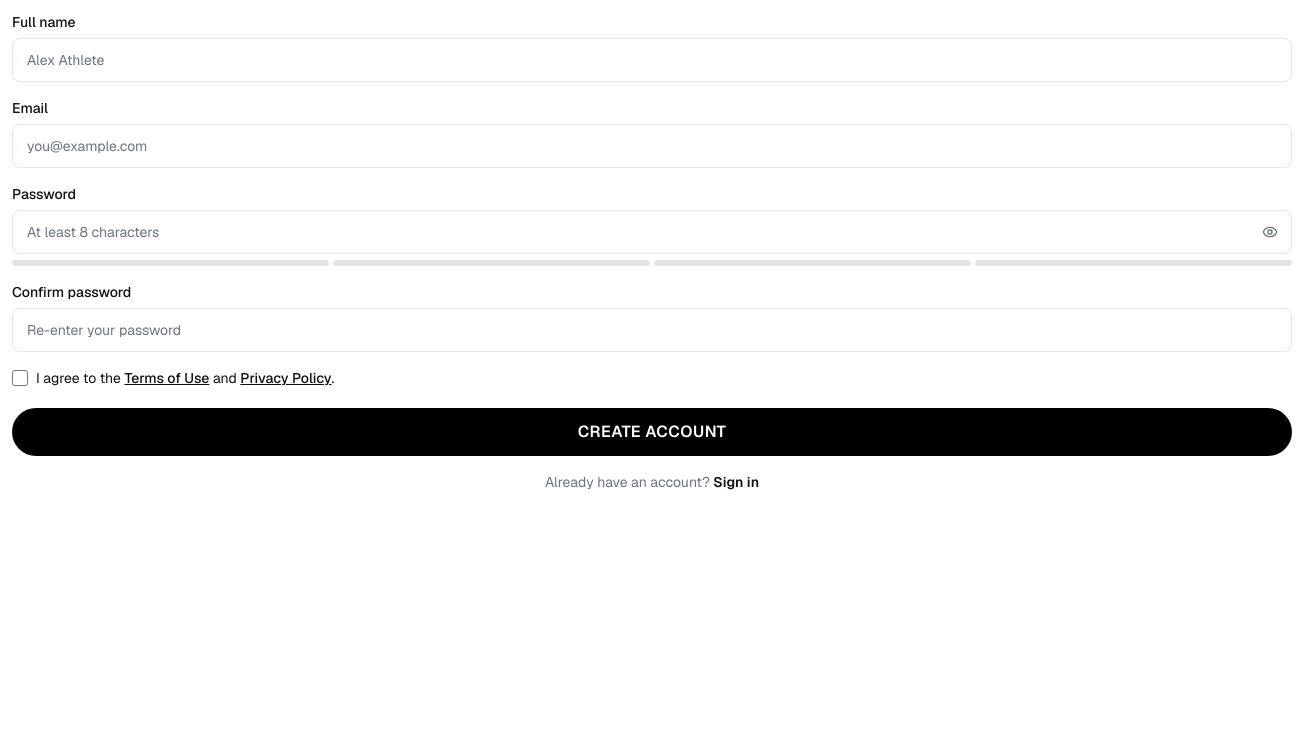
Test case: SignUpForm › blocks submission when passwords do not match
In the field labelled "Full name": {"x": 652, "y": 60} [12,38,1292,82], type "Alex"
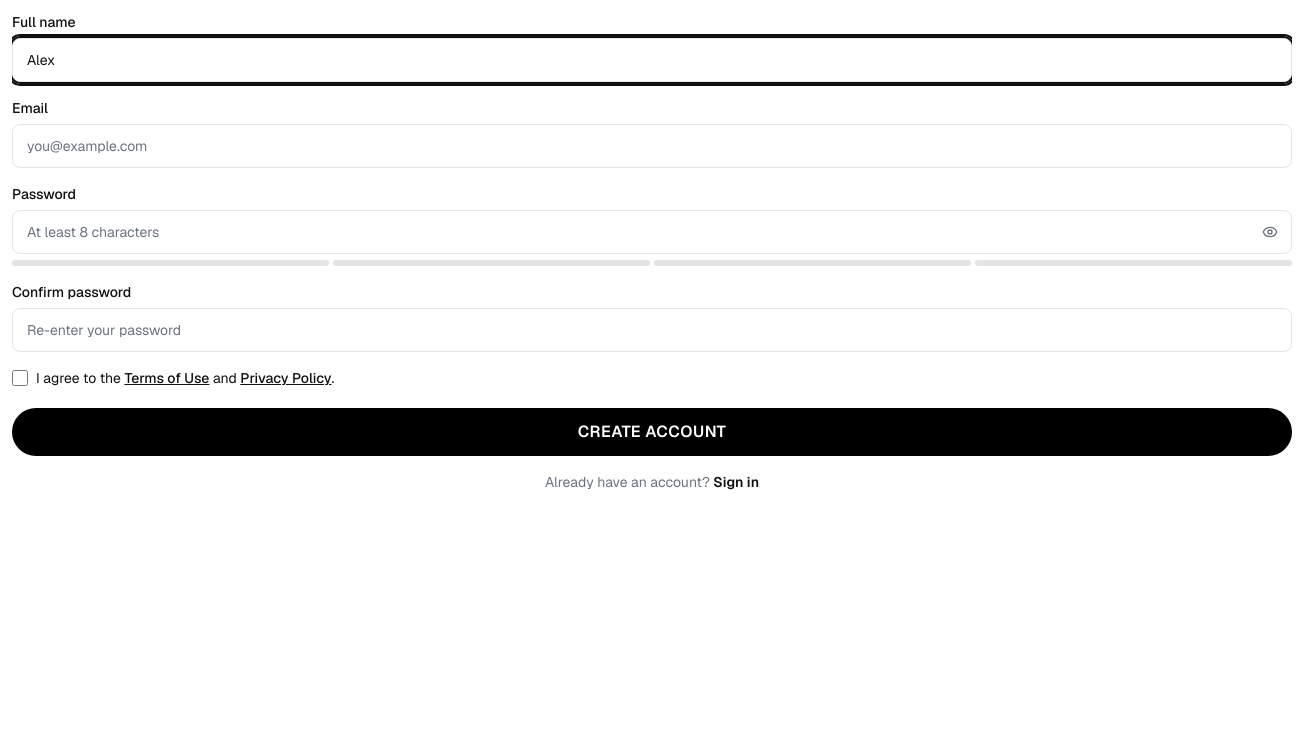
In the field labelled "Email": {"x": 652, "y": 146} [12,124,1292,168], type "alex@ua.com"
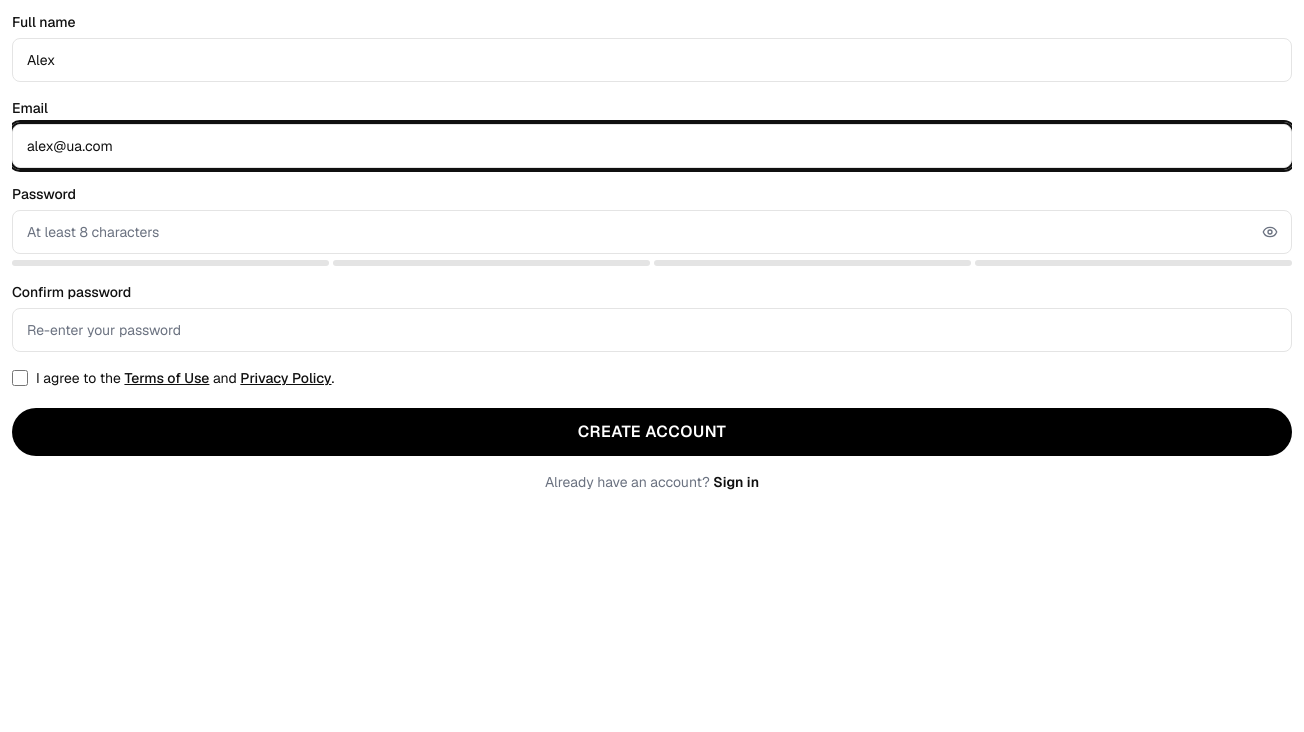
In the password field labelled "Password": {"x": 652, "y": 232} [12,210,1292,254], type "Str0ng!Pass"
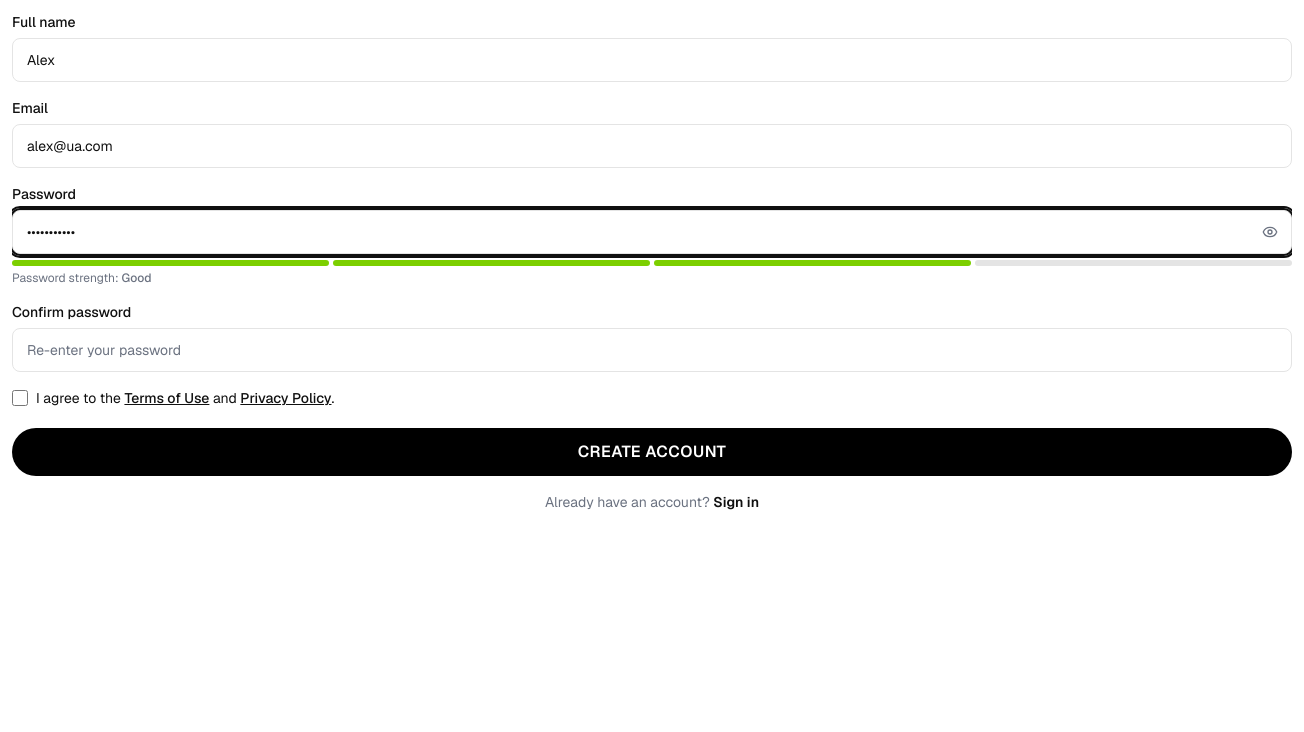
In the password field labelled "Confirm password": {"x": 652, "y": 350} [12,328,1292,372], type "Different1!"
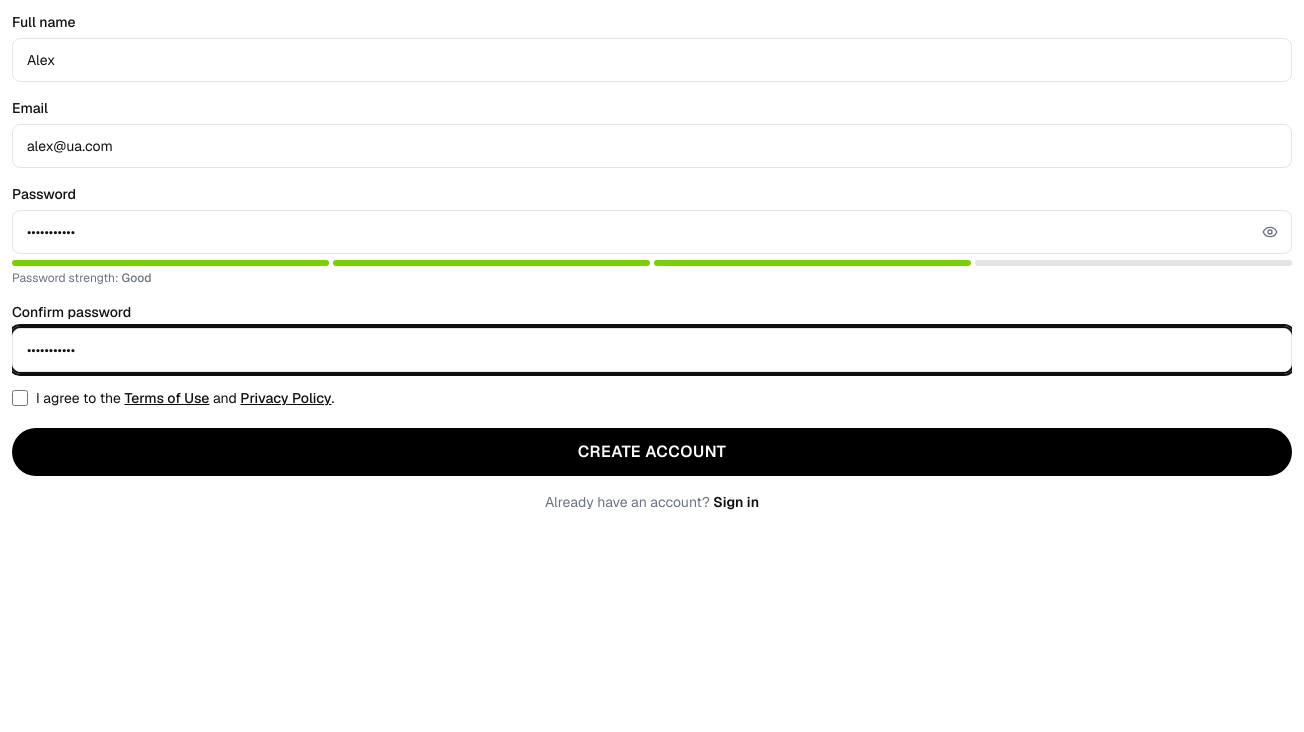
Click the checkbox labelled "I agree to the Terms of Use and Privacy Policy .": {"x": 20, "y": 398} [12,390,28,406]
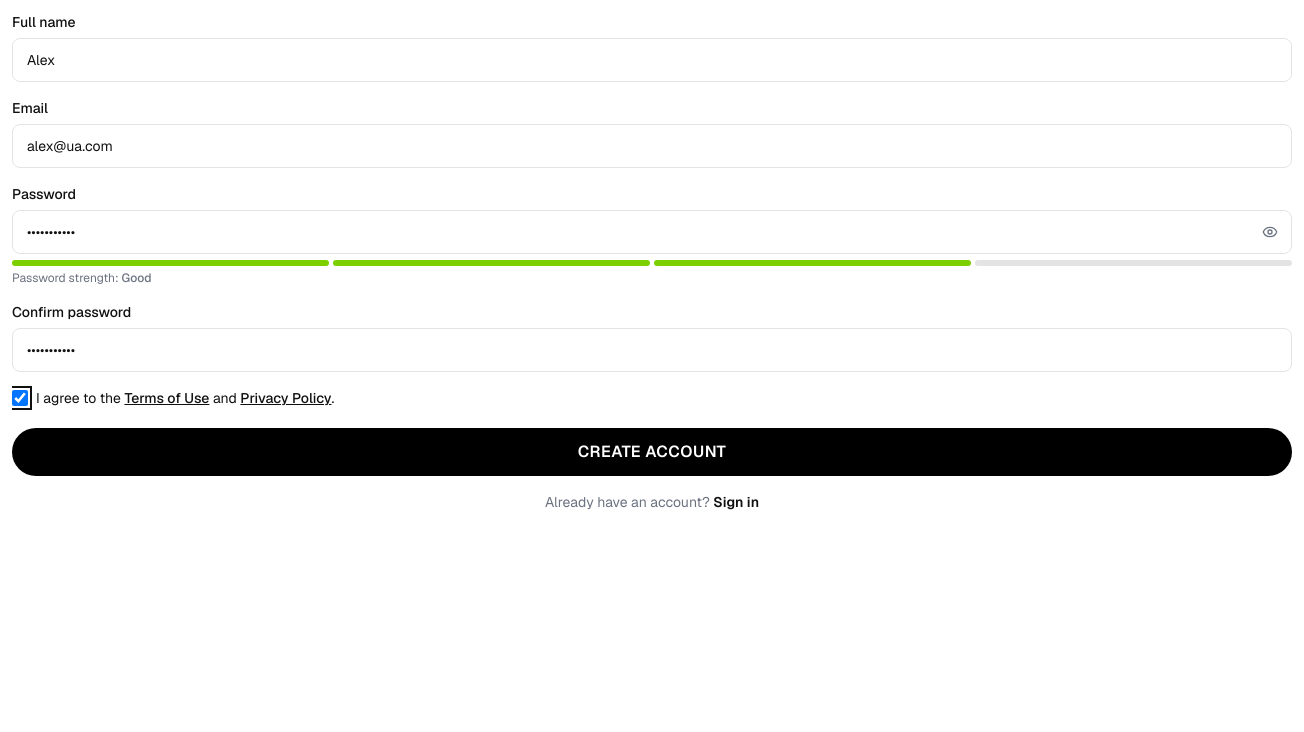
Click the button "Create account": {"x": 652, "y": 452} [12,428,1292,476]
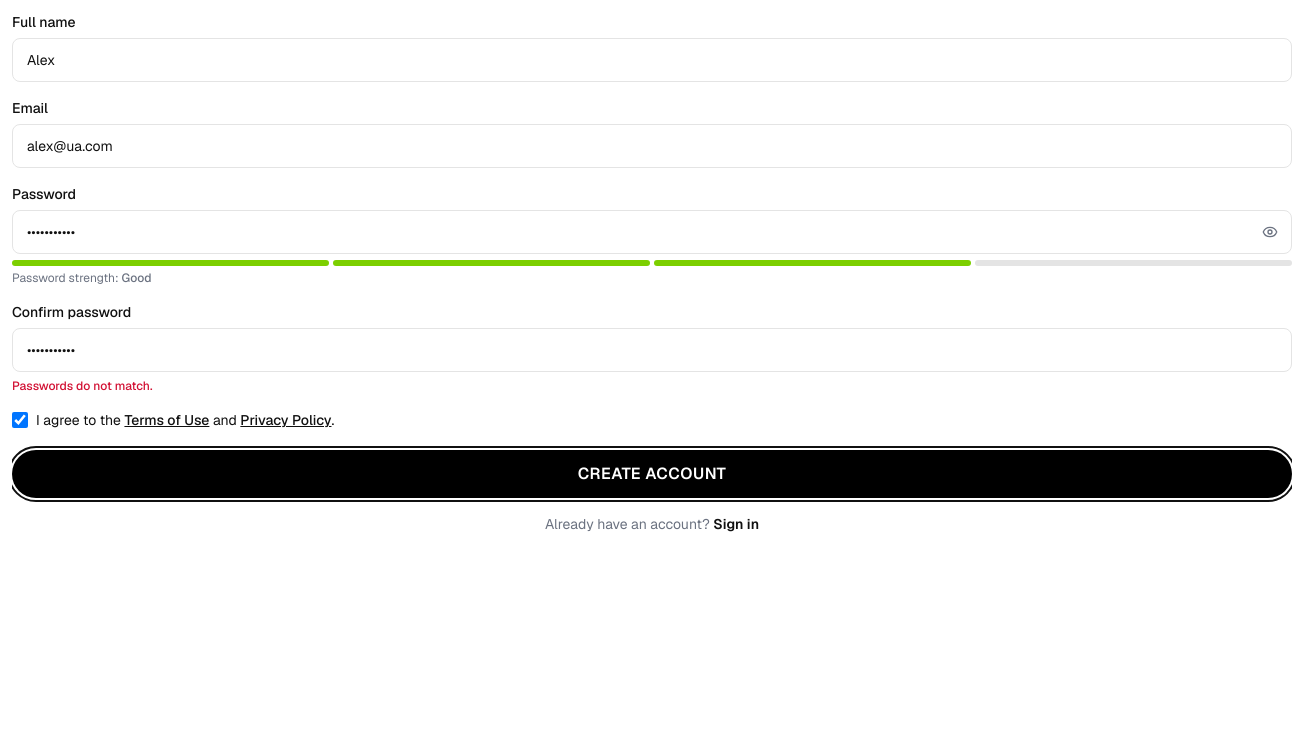
Expected: the text "Passwords do not match." is shown, [12,378,152,394]
